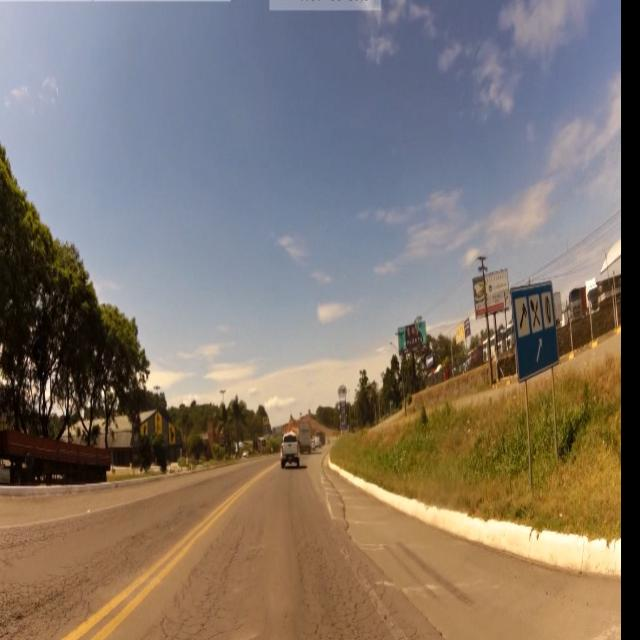LOC-6: (511, 291, 561, 376)
